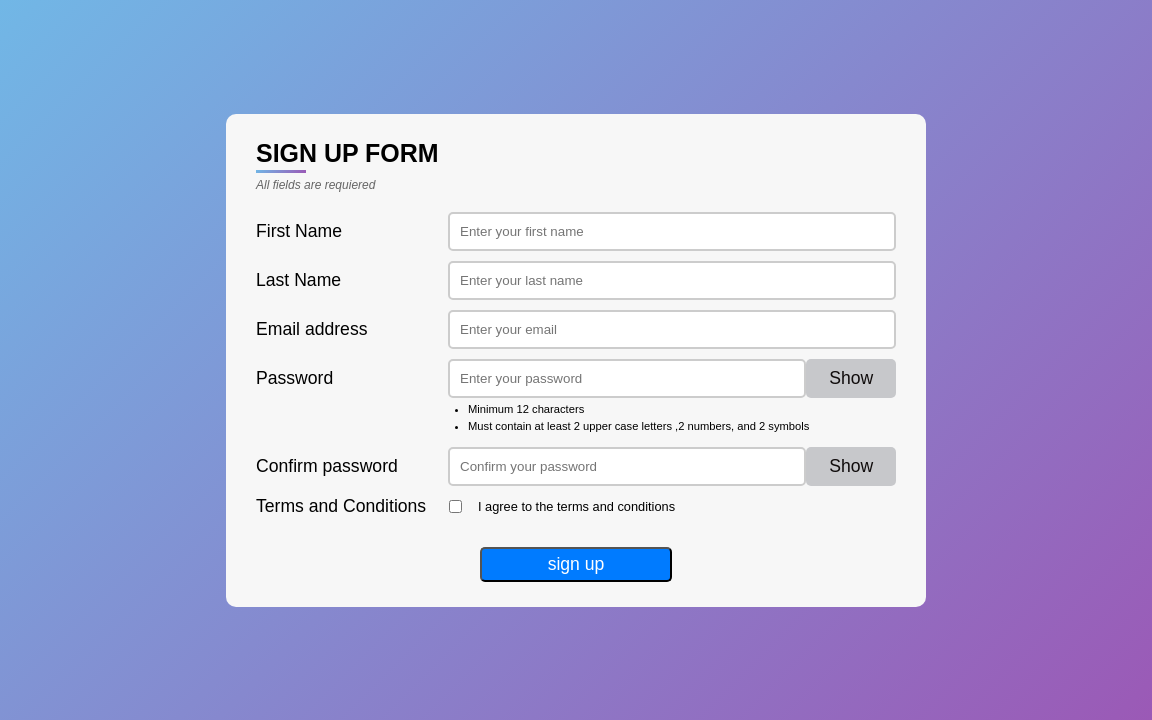
it: SignupForm component › should display validation errors when entering confirm password diffremt to password
# Enter invalid data
In the password field with test id "password": (627, 378) [448,358,806,398], type "AAbb11**11111"
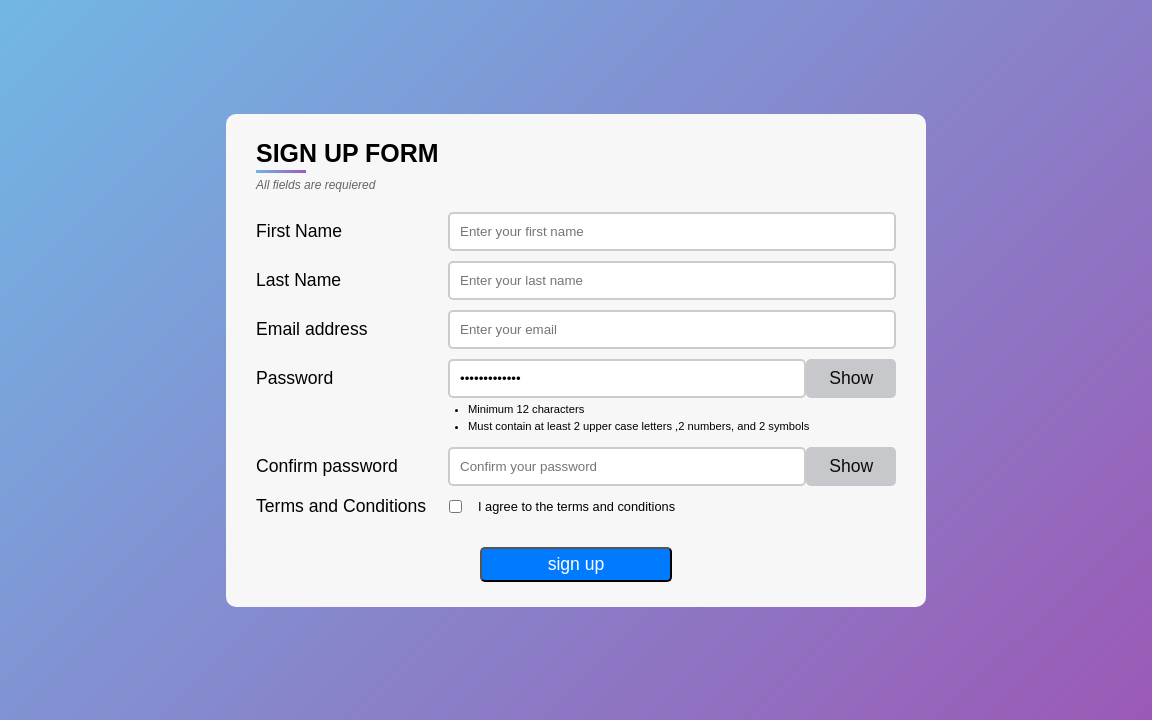
In the password field with test id "confpassword": (627, 466) [448,446,806,486], type "AAbb11**11111555"
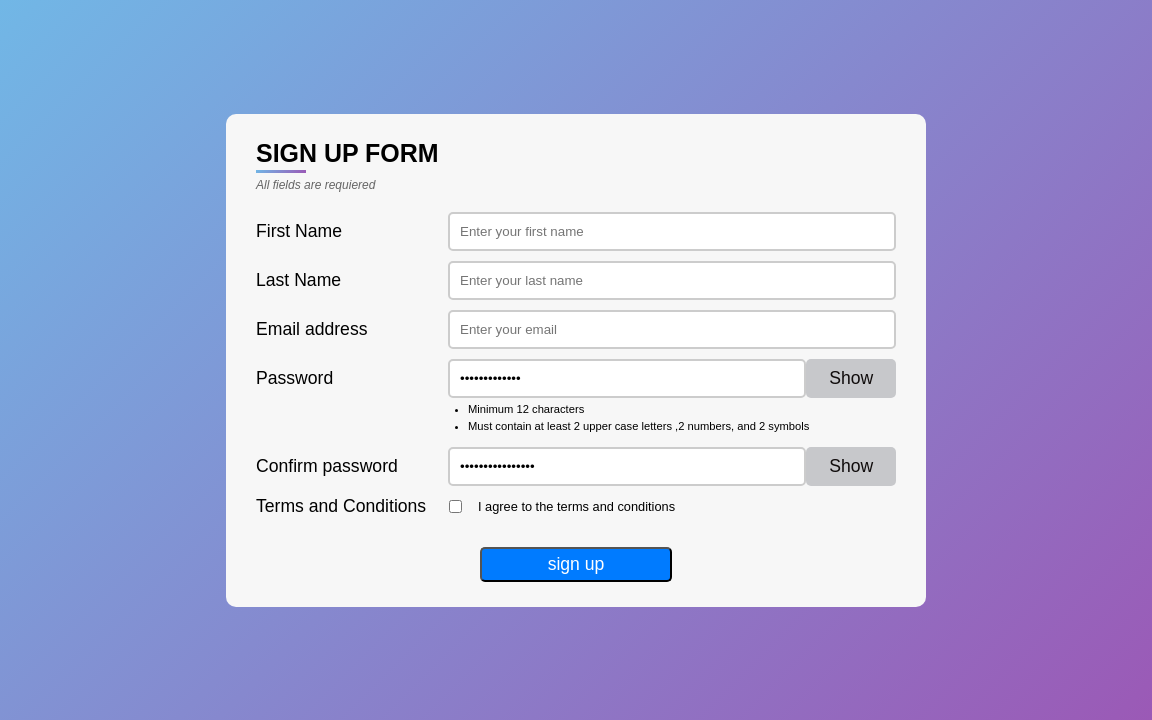
Click the button "sign up": (576, 564) [480,546,672,582]
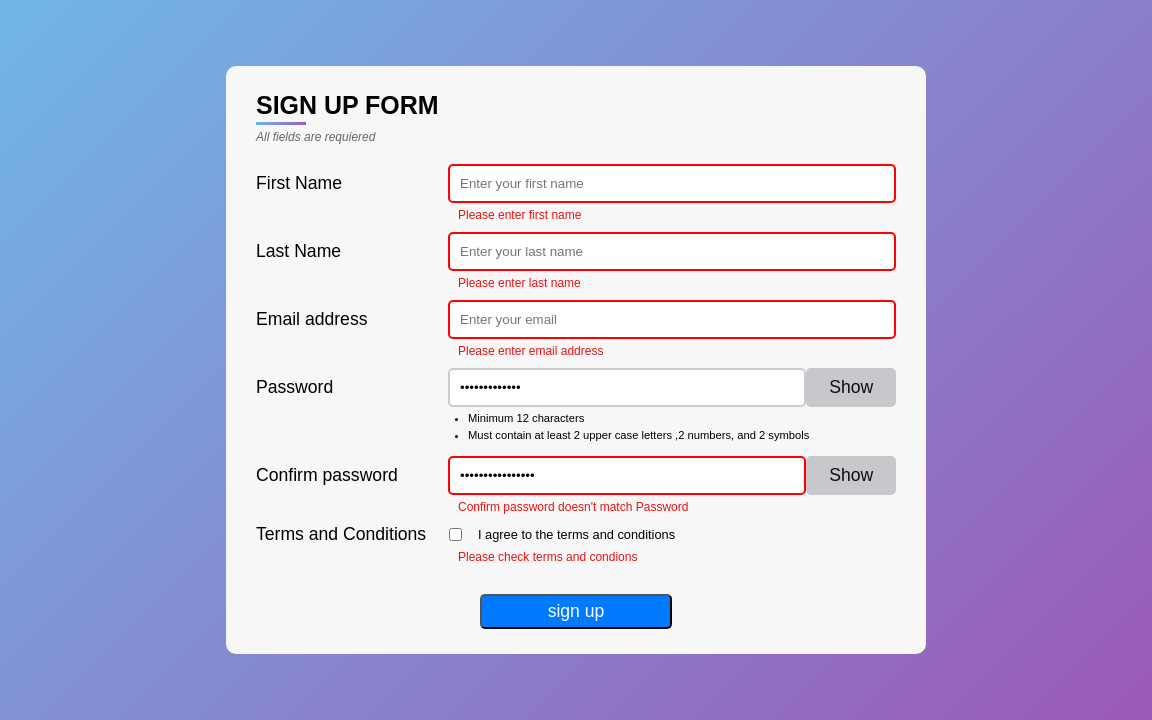
Expected: the text "Confirm password doesn't match Password" is shown, [458,500,688,514]
